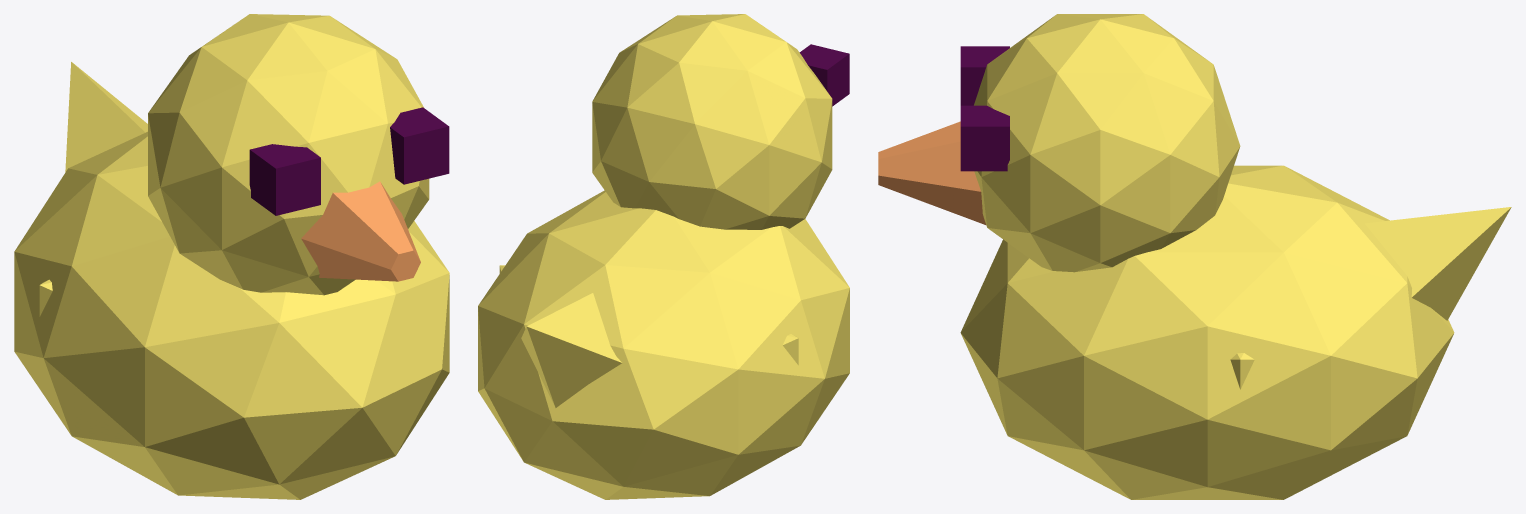
File: duck.glb
3 views of the same model, side by side, from view 1: azimuth 30°, elevation 25°; view 2: azimuth 150°, elevation 25°; view 3: azimuth 270°, elevation 25° (orthographic). The views are drawn at different scales.
Parts seen in each view (by area): view 1: Body, Head, Beak, Tail, EyeL, EyeR; view 2: Body, Head, Tail, EyeL; view 3: Body, Head, Tail, Beak, EyeR, EyeL.
Part boxes in pixels (x1=…): Body: x1=14, y1=131, x2=449, y2=499; Head: x1=148, y1=14, x2=429, y2=295; Beak: x1=301, y1=181, x2=420, y2=281; Tail: x1=65, y1=62, x2=147, y2=172; EyeL: x1=249, y1=144, x2=320, y2=215; EyeR: x1=390, y1=107, x2=449, y2=184; Body: x1=478, y1=190, x2=849, y2=499; Head: x1=592, y1=14, x2=832, y2=229; Tail: x1=521, y1=293, x2=621, y2=407; EyeL: x1=799, y1=44, x2=849, y2=106; Body: x1=960, y1=165, x2=1454, y2=499; Head: x1=974, y1=14, x2=1240, y2=272; Tail: x1=1365, y1=207, x2=1511, y2=320; Beak: x1=878, y1=121, x2=985, y2=224; EyeR: x1=960, y1=105, x2=1009, y2=171; EyeL: x1=960, y1=46, x2=1009, y2=105.
Bounding box in the file's own units: 0.5 × 0.625 × 0.7696.
